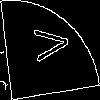V: (25, 25, 70, 63)
